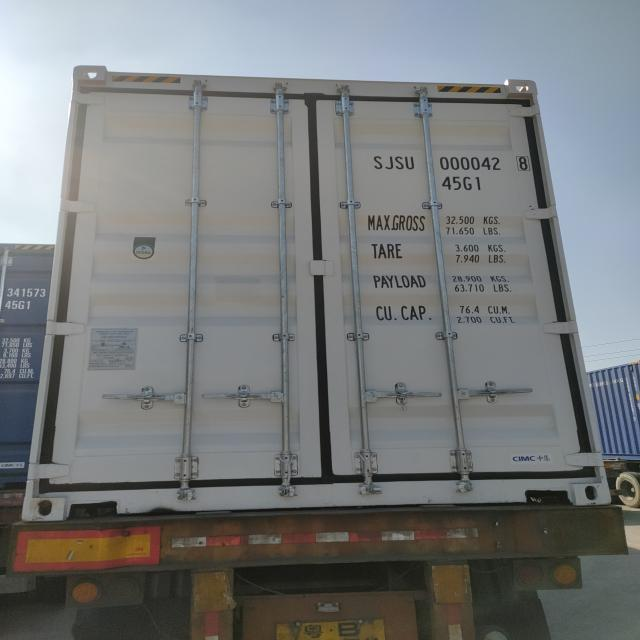seal: (399, 390, 410, 411)
